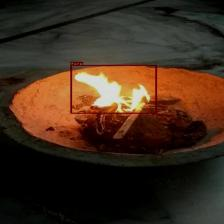fire: (70, 64, 156, 114)
